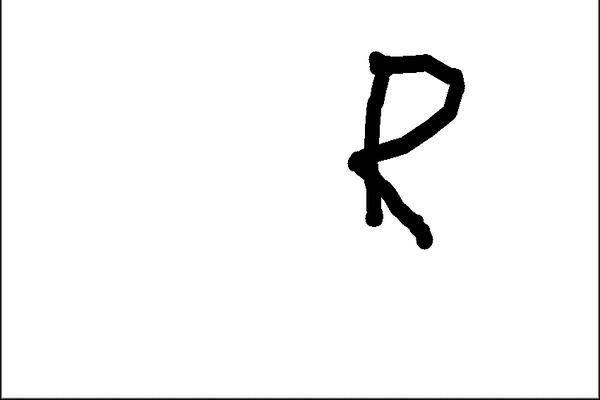R: (337, 36, 469, 256)
